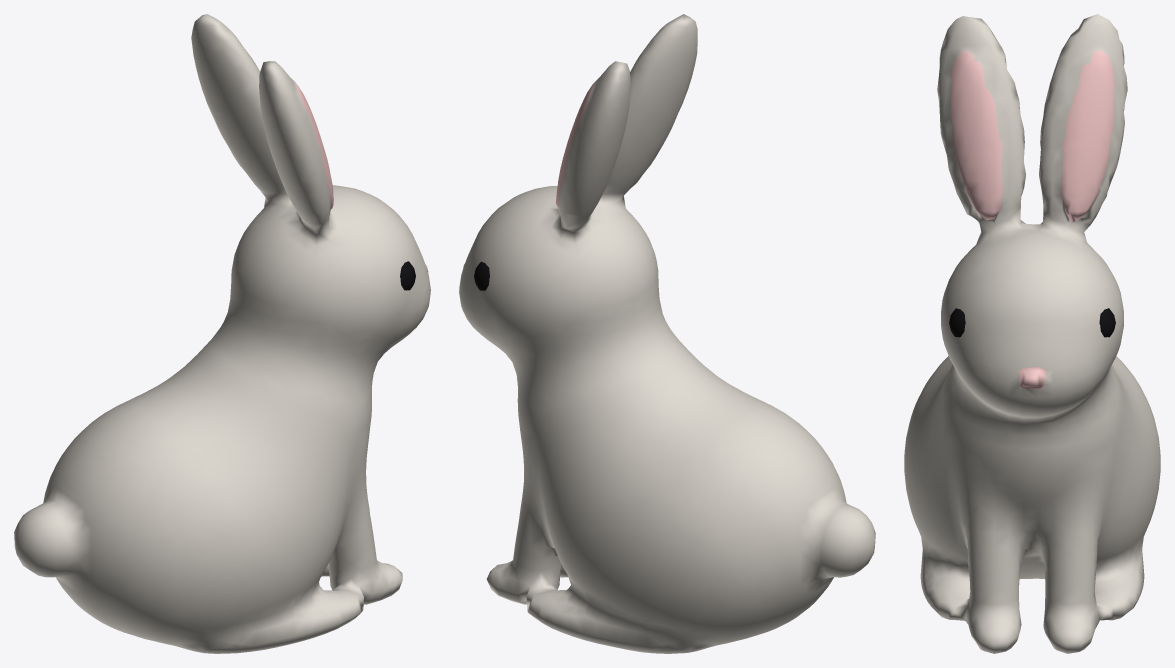
The model's file is rabbit_adult.glb.
3 renders of one model, left to right at view 1: azimuth 30°, elevation 25°; view 2: azimuth 150°, elevation 25°; view 3: azimuth 270°, elevation 25°, orthographic.
Parts seen in each view (by area): view 1: body; view 2: body; view 3: body, eye.
Part boxes in pixels (left/top/right/bottom): body: left=14, top=14, right=430, bottom=653; body: left=459, top=14, right=875, bottom=653; body: left=904, top=14, right=1160, bottom=653; eye: left=949, top=308, right=1115, bottom=337.
Size of the model in its own units: 1.65 by 2.22 by 0.8932.
